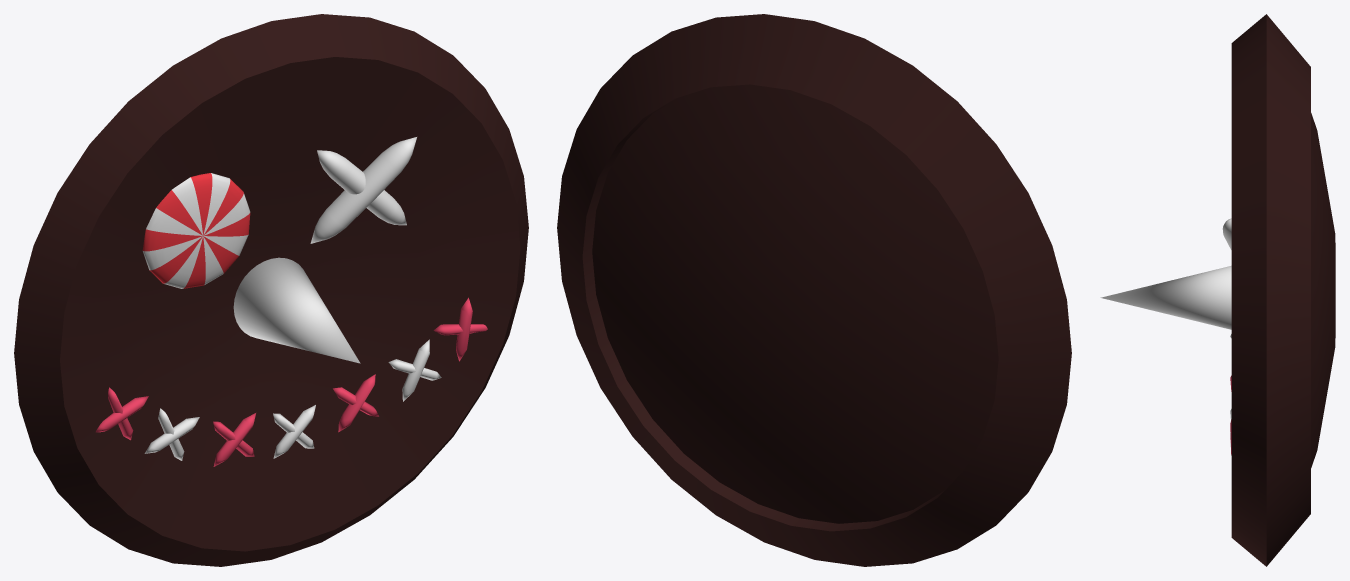
File: Candy Chaser.fbx
3 views of the same model, side by side, from view 1: azimuth 30°, elevation 25°; view 2: azimuth 150°, elevation 25°; view 3: azimuth 270°, elevation 25° (orthographic). The views are drawn at different scales.
Visible parts, largest first — view 1: Circle; view 2: Circle; view 3: Circle.
Boxes of the visible parts, <box> form: Circle: <box>14,14,528,566</box>; Circle: <box>557,14,1071,566</box>; Circle: <box>1100,14,1335,566</box>.
Size of the model in its own units: 743 by 743 by 316.
